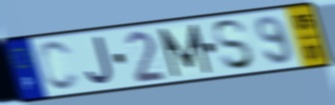2: (123, 28, 168, 85)
9: (254, 14, 295, 67)
C: (37, 39, 82, 93)
J: (85, 34, 115, 87)
M: (156, 22, 214, 80)
S: (211, 18, 257, 73)
